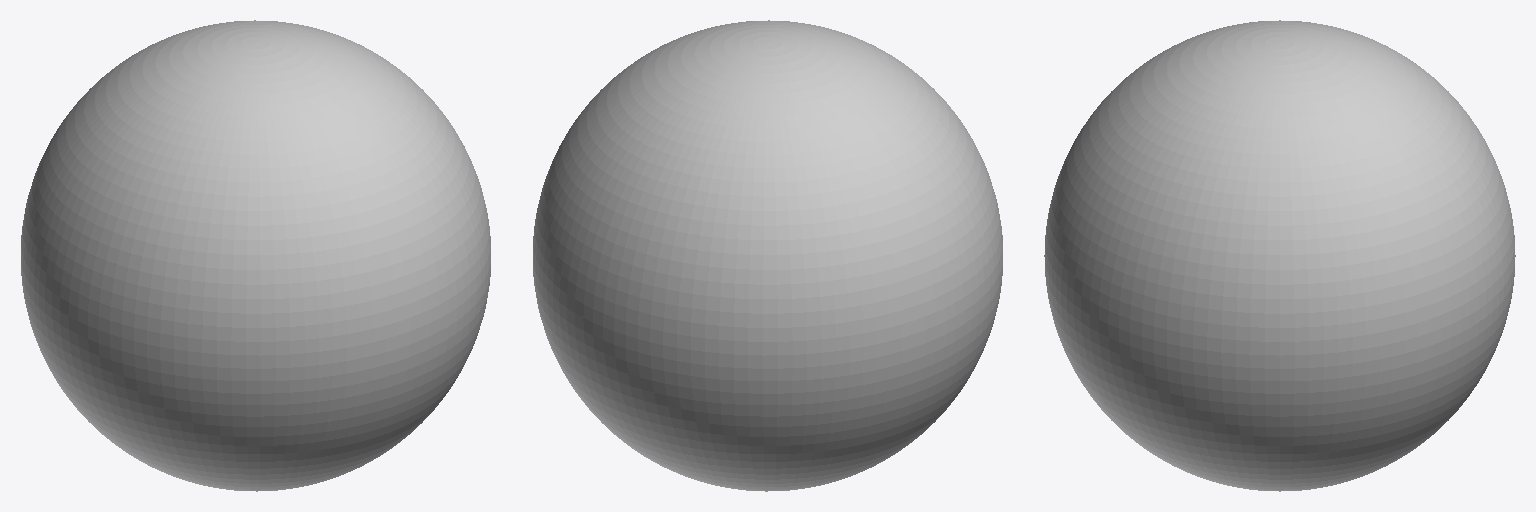
File: 1 estrella_.obj
3 views of the same model, side by side, from view 1: azimuth 30°, elevation 25°; view 2: azimuth 150°, elevation 25°; view 3: azimuth 270°, elevation 25° (orthographic).
Visible parts, largest first — view 1: Sphere001; view 2: Sphere001; view 3: Sphere001.
Boxes of the visible parts, box(x1,y1,x2,y2) form: Sphere001: box(21, 20, 490, 491); Sphere001: box(533, 20, 1002, 491); Sphere001: box(1044, 20, 1515, 491).
Size of the model in its own units: 46.34 by 46.34 by 46.34.